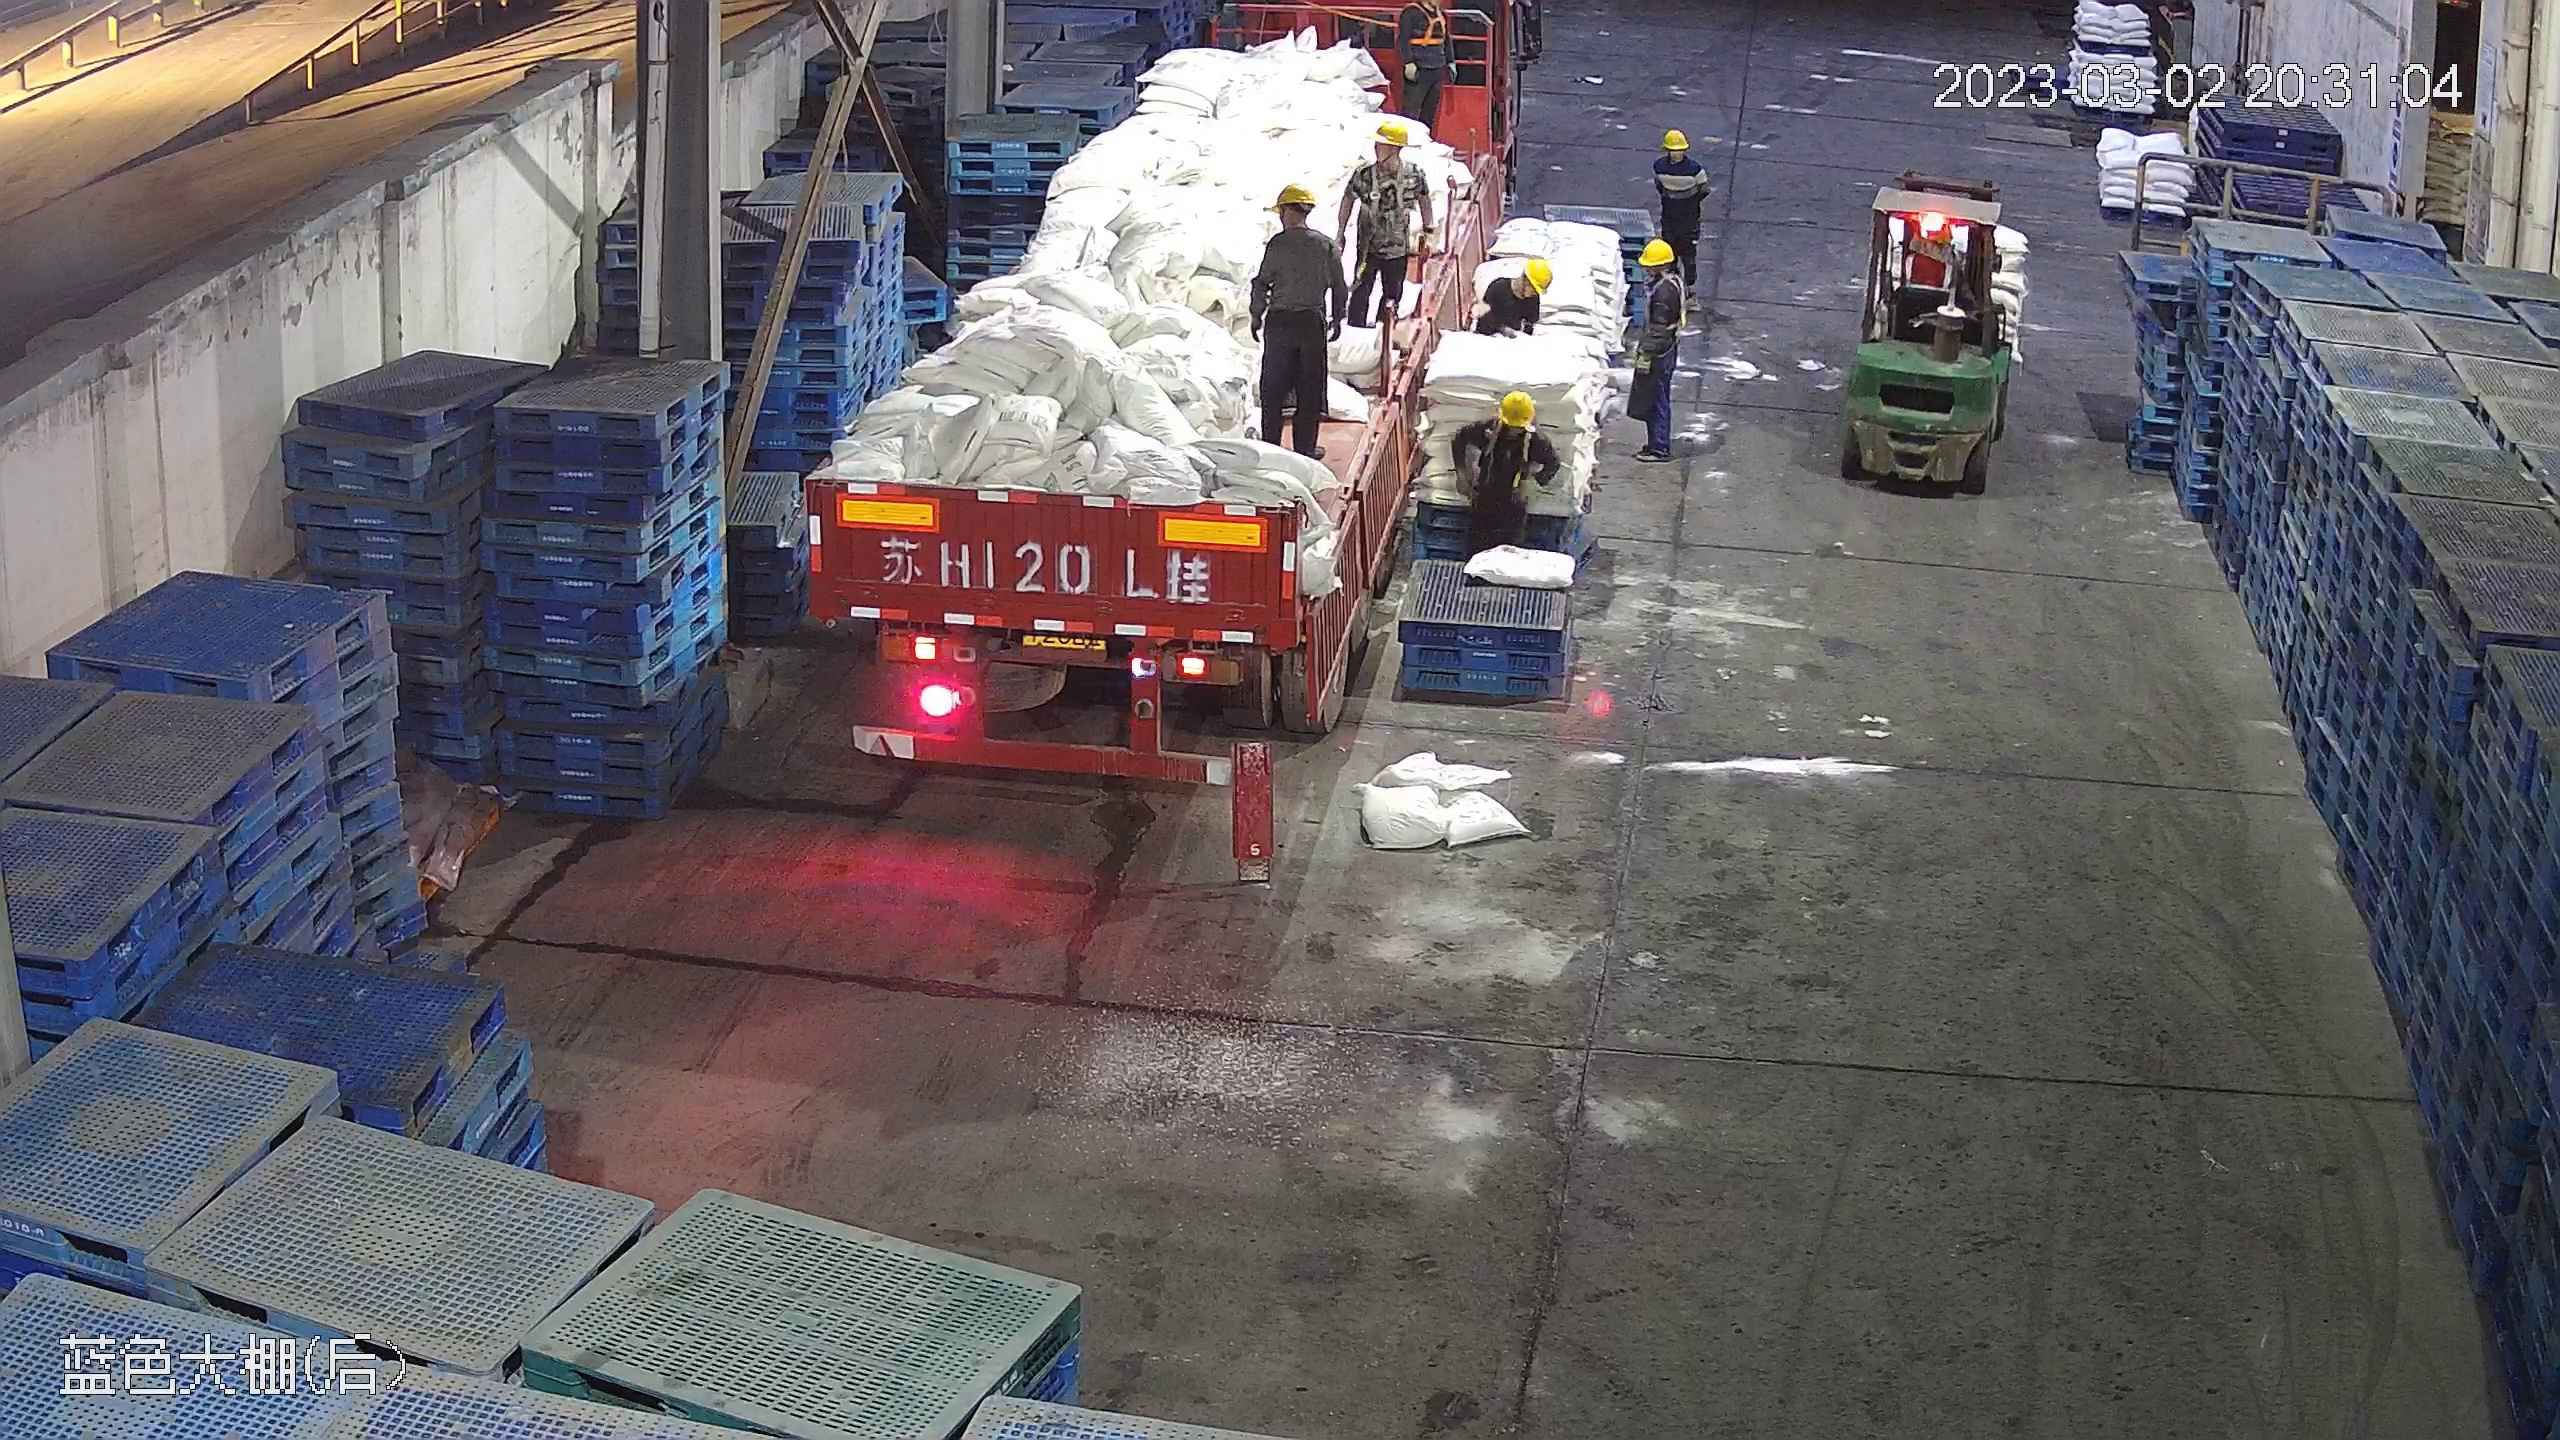belt: (1356, 163, 1416, 220), (1643, 276, 1690, 329), (1405, 3, 1453, 47), (1487, 422, 1534, 460)
head: (1259, 180, 1338, 261), (1346, 118, 1426, 193), (1469, 392, 1551, 462), (1483, 256, 1555, 317), (1632, 242, 1686, 315), (1654, 128, 1703, 178)
helmet: (1271, 180, 1316, 213), (1494, 389, 1535, 424), (1642, 239, 1682, 265), (1522, 256, 1554, 290), (1375, 118, 1414, 143), (1661, 128, 1688, 149)
people: (1243, 183, 1345, 455), (1337, 116, 1430, 352), (1449, 386, 1557, 567), (1620, 235, 1691, 466), (1651, 135, 1718, 297)
truck: (792, 6, 1451, 777)
